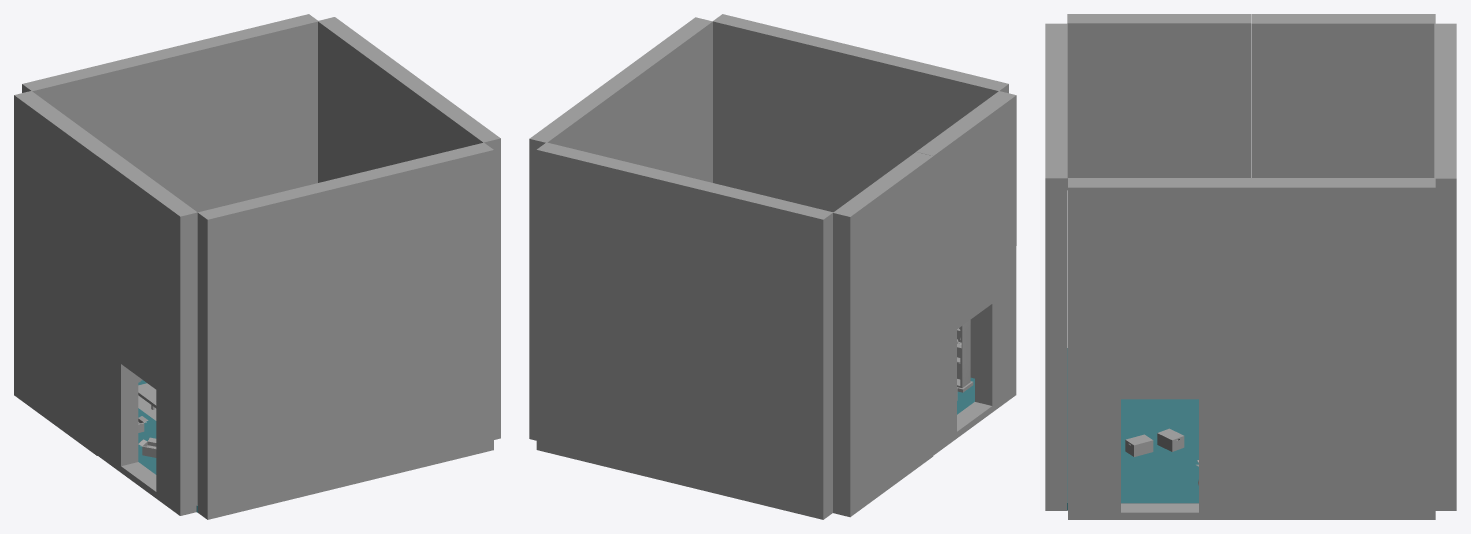
Rendered from Escenario_Menu.fbx.
3 views of the same model, side by side, from view 1: azimuth 30°, elevation 25°; view 2: azimuth 150°, elevation 25°; view 3: azimuth 270°, elevation 25° (orthographic). The views are drawn at different scales.
Visible parts, largest first — view 1: Pared13, Pared14, Pared1, Pared10, Pared, Pared15, Pared8, Puerta, Pared3, Pared9, Pared11, Pared12 (+2 smaller); view 2: Pared9, Pared4, Pared10, Pared14, Pared7, Pared8, Pared3, Pared15, Pared13, Pared12, Puerta, Pared11 (+3 smaller); view 3: Pared11, Pared12, Pared6, Pared15, Pared8, Puerta1, Pared14, Pared10, Suelo, Pared, Pared7, Suelo1 (+4 smaller).
Boxes of the visible parts, bbox=[...] form: Pared13: bbox=[197, 177, 351, 369]; Pared14: bbox=[341, 142, 493, 335]; Pared1: bbox=[197, 334, 349, 519]; Pared10: bbox=[165, 14, 317, 203]; Pared: bbox=[350, 300, 493, 484]; Pared15: bbox=[97, 151, 197, 367]; Pared8: bbox=[14, 91, 113, 304]; Puerta: bbox=[97, 307, 197, 515]; Pared3: bbox=[14, 245, 97, 455]; Pared9: bbox=[22, 49, 175, 195]; Pared11: bbox=[318, 17, 417, 179]; Pared12: bbox=[400, 77, 500, 290]; Pared9: bbox=[679, 177, 832, 369]; Pared4: bbox=[679, 334, 832, 519]; Pared10: bbox=[536, 142, 688, 334]; Pared14: bbox=[713, 14, 864, 203]; Pared7: bbox=[536, 299, 680, 484]; Pared8: bbox=[833, 152, 933, 366]; Pared3: bbox=[833, 306, 933, 517]; Pared15: bbox=[916, 91, 1016, 306]; Pared13: bbox=[855, 49, 1008, 195]; Pared12: bbox=[613, 17, 712, 180]; Puerta: bbox=[933, 246, 1016, 455]; Pared11: bbox=[529, 78, 629, 290]; Pared11: bbox=[1251, 178, 1435, 354]; Pared12: bbox=[1068, 178, 1251, 352]; Pared6: bbox=[1252, 353, 1435, 519]; Pared15: bbox=[1067, 14, 1251, 189]; Pared8: bbox=[1251, 14, 1435, 177]; Puerta1: bbox=[1068, 353, 1251, 519]; Pared14: bbox=[1045, 100, 1067, 343]; Pared10: bbox=[1434, 100, 1456, 345]; Suelo: bbox=[1067, 425, 1198, 510]; Pared: bbox=[1045, 344, 1067, 510]; Pared7: bbox=[1435, 344, 1456, 510]; Suelo1: bbox=[1067, 348, 1198, 425].
Size of the model in its own units: 50.28 by 44.98 by 50.37.
